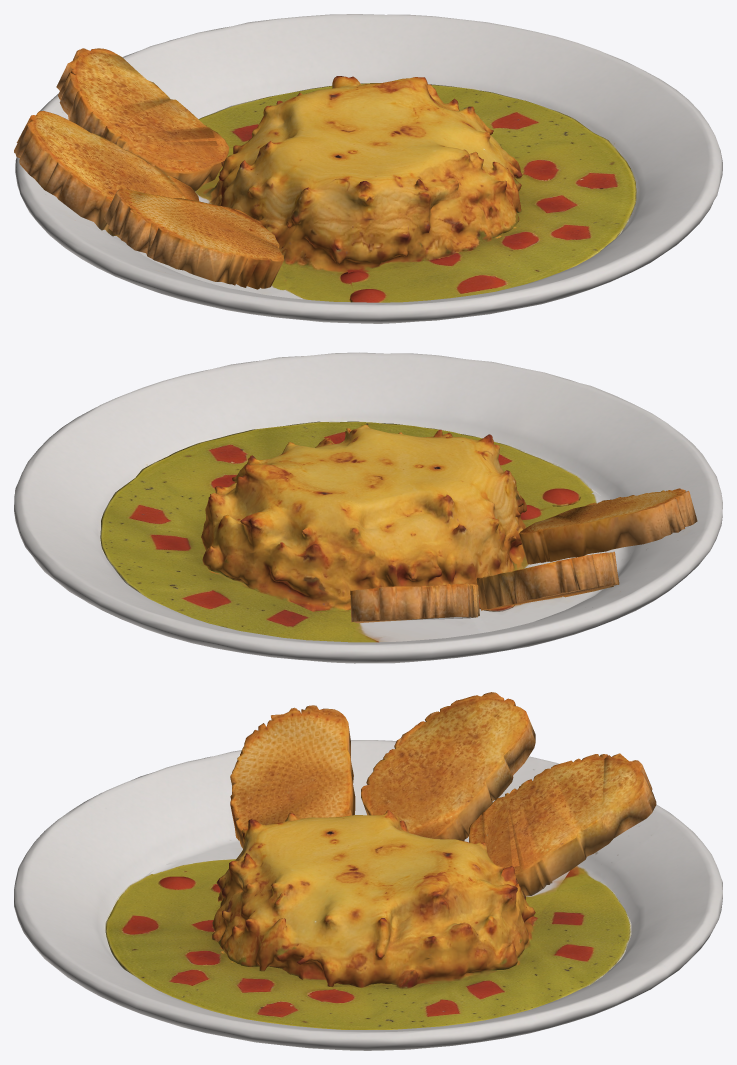
File: huevo_tocino_alla_italiana.fbx
3 renders of one model, top to bottom at view 1: azimuth 30°, elevation 25°; view 2: azimuth 150°, elevation 25°; view 3: azimuth 270°, elevation 25°, orthographic.
Parts seen in each view (by area): view 1: meshes[0]; view 2: meshes[0]; view 3: meshes[0].
Part boxes in pixels (left/top/right/bottom): meshes[0]: left=14, top=14, right=722, bottom=323; meshes[0]: left=14, top=352, right=722, bottom=663; meshes[0]: left=14, top=692, right=722, bottom=1050.
Size of the model in its own units: 99.8 by 17.77 by 99.8.
1 material, 1 textured.
